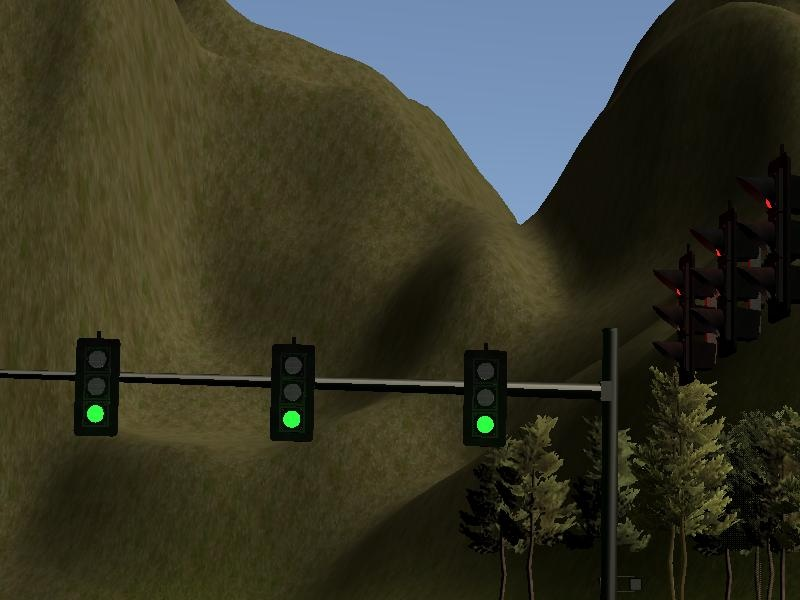GREEN: (269, 342, 315, 441), (463, 349, 509, 448), (74, 339, 118, 434)
